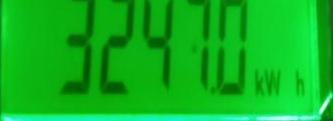.: (254, 68, 310, 101)
0: (210, 86, 217, 95)
1: (217, 1, 250, 97)
3: (101, 0, 138, 95)
4: (59, 0, 97, 98)
5: (141, 0, 175, 90)
8: (183, 0, 212, 88)
